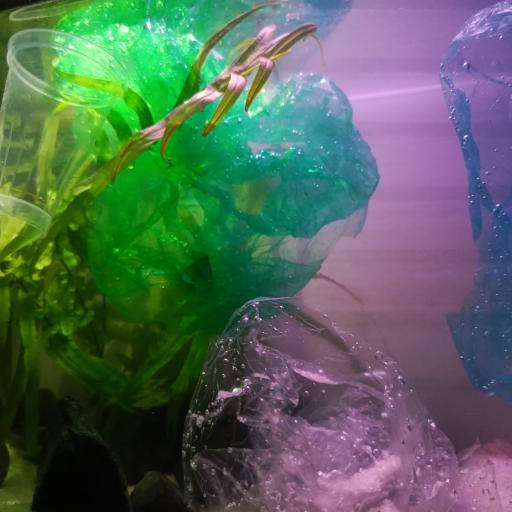plastic_bag: (57, 0, 381, 332), (185, 292, 500, 512), (443, 0, 511, 396)
plastic_cup: (0, 25, 120, 251)
